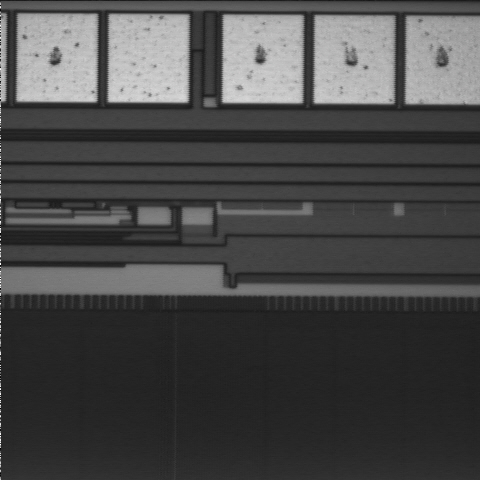pad: (17, 15, 96, 102), (109, 15, 188, 102), (223, 16, 302, 103), (315, 17, 393, 103)
